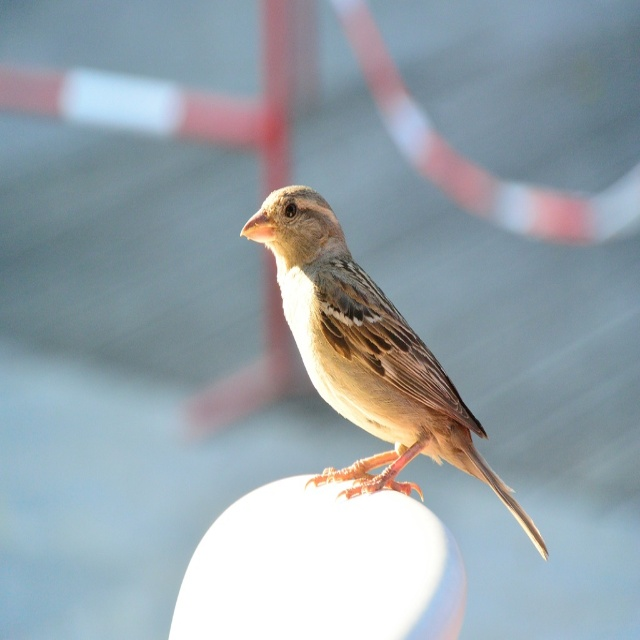Sparrow: (235, 183, 553, 569)
